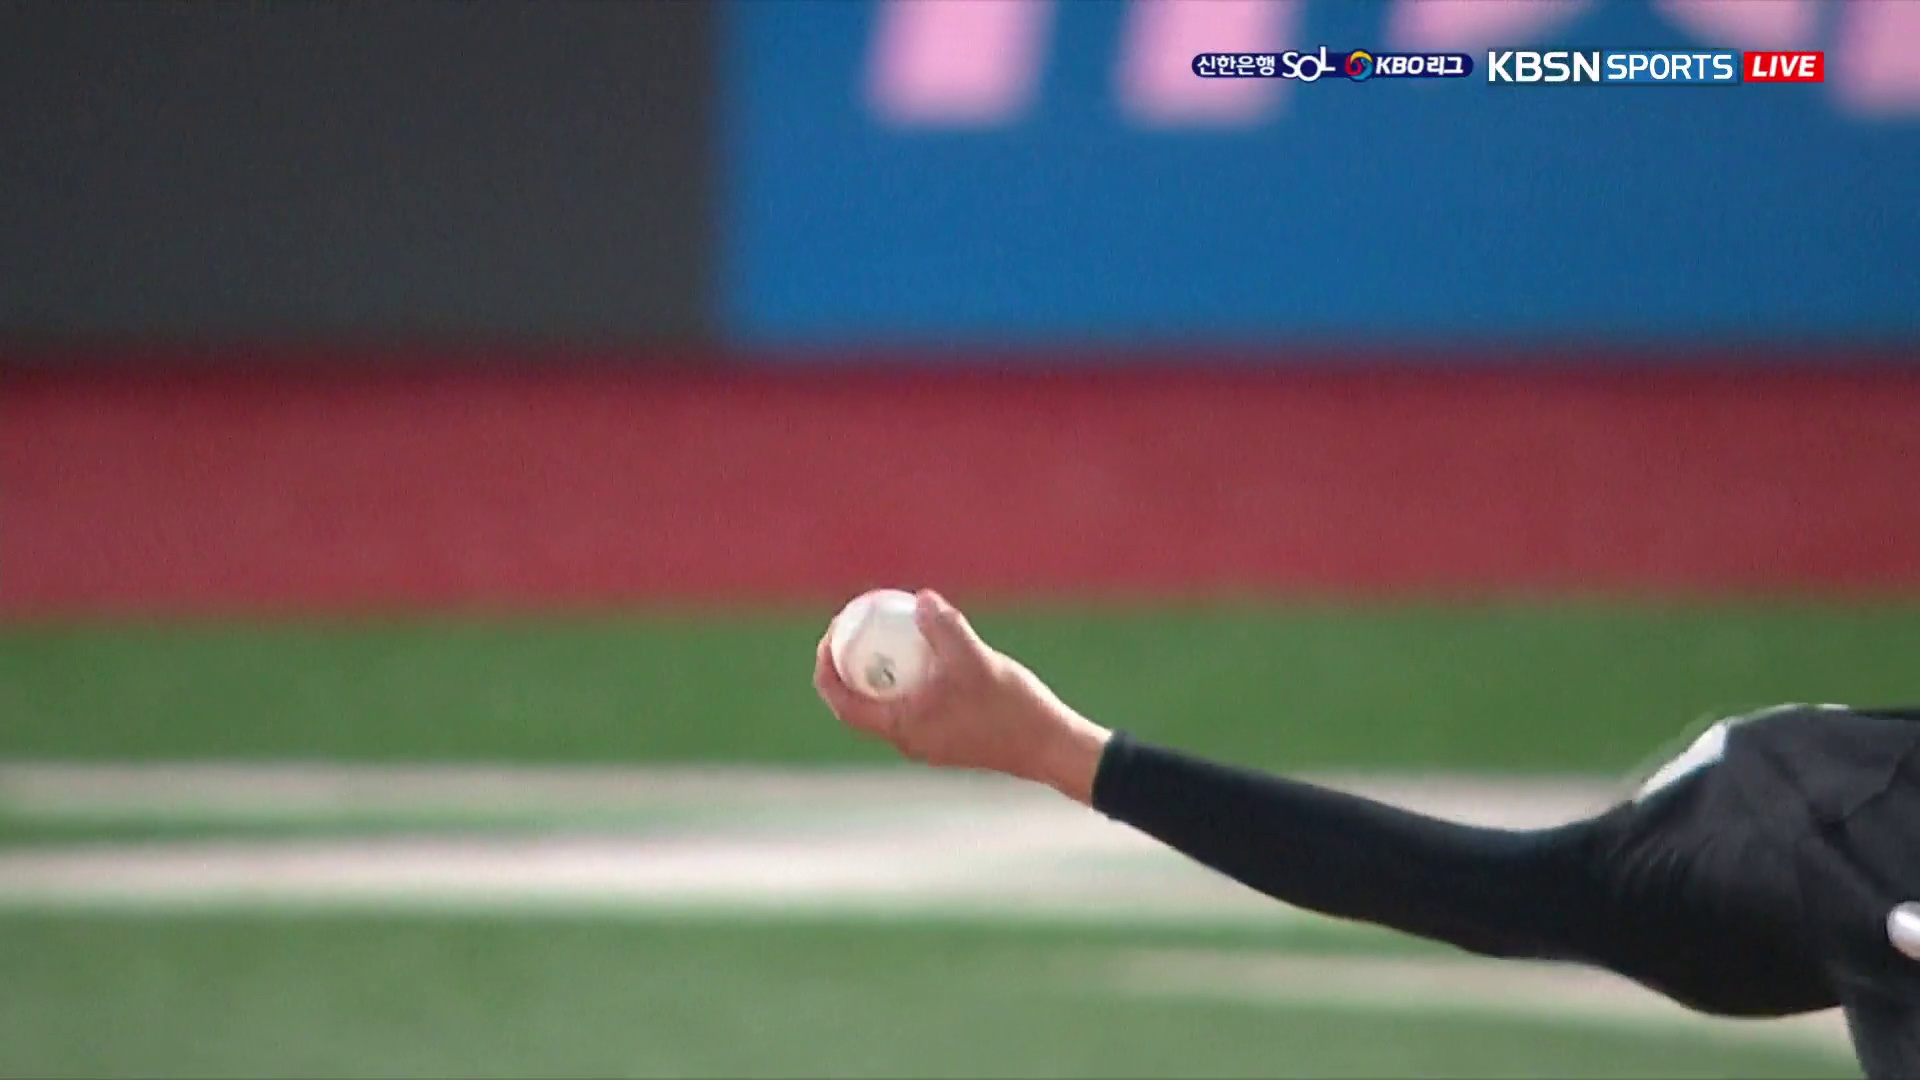zoomin_hand: (793, 578, 1563, 982)
